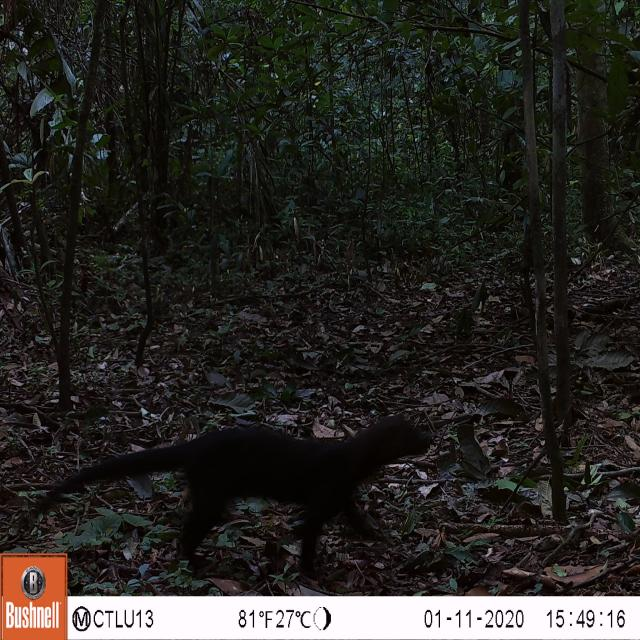Tayra: (23, 404, 435, 556)
